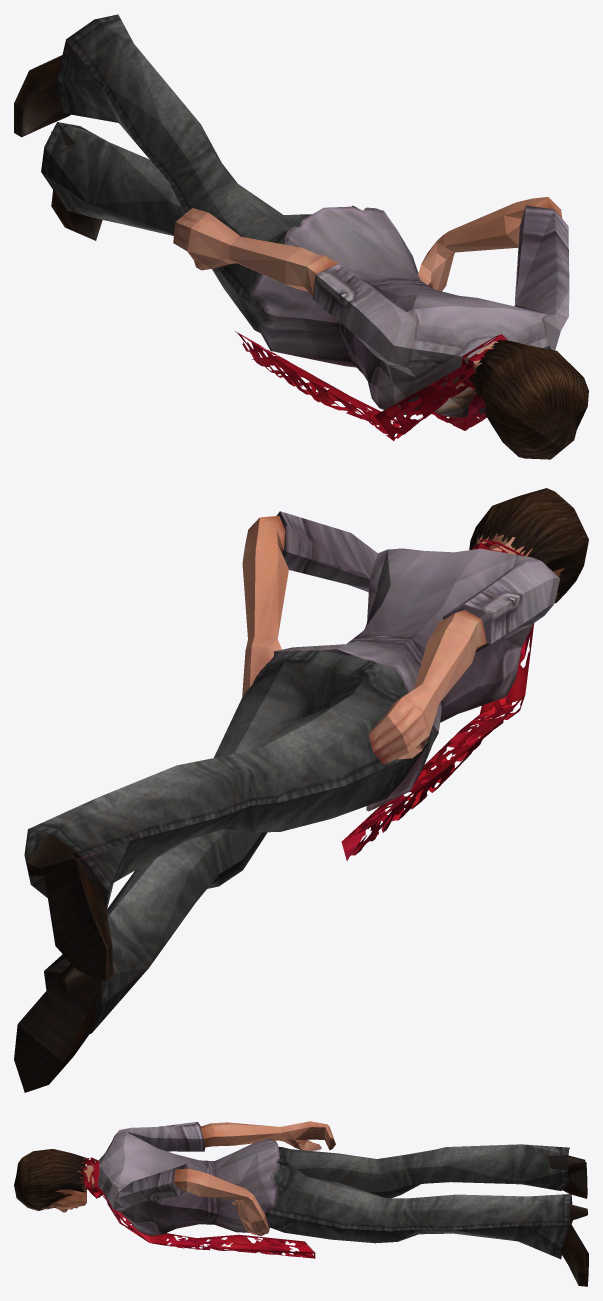
The model's file is world_suning.obj.
3 renders of one model, top to bottom at view 1: azimuth 30°, elevation 25°; view 2: azimuth 150°, elevation 25°; view 3: azimuth 270°, elevation 25°, orthographic. The views are drawn at different scales.
Visible parts, largest first — view 1: World_SuNing, Object01; view 2: World_SuNing, Object01; view 3: World_SuNing, Object01.
Part boxes in pixels (x1,y1,x2,y2): World_SuNing: (14, 14, 588, 459); Object01: (235, 331, 486, 440); World_SuNing: (14, 488, 588, 1092); Object01: (341, 556, 534, 860); World_SuNing: (14, 1121, 588, 1286); Object01: (85, 1158, 315, 1258).
Size of the model in its own units: 24.54 by 22.33 by 76.42.
1 material, 1 textured.
